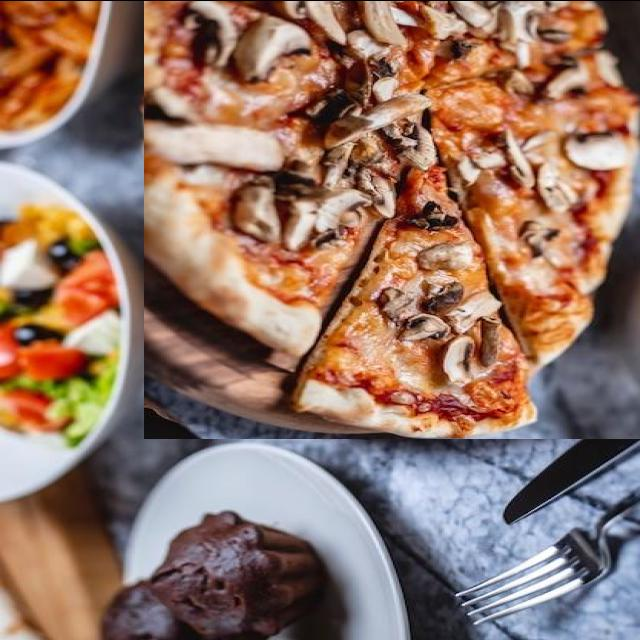pizza: (144, 0, 640, 438)
